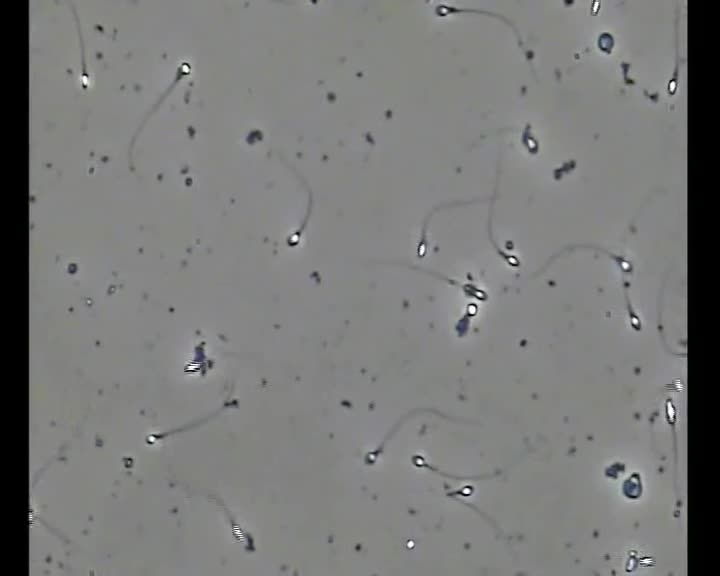spermhead: (521, 123, 538, 154), (621, 473, 641, 499), (463, 282, 487, 300), (596, 31, 614, 54), (620, 60, 635, 86), (604, 461, 624, 478), (664, 398, 677, 424), (666, 65, 677, 95), (433, 3, 456, 17), (455, 314, 469, 336), (624, 551, 637, 573), (185, 354, 205, 368), (616, 256, 632, 273), (243, 531, 255, 551), (177, 60, 191, 77), (504, 253, 519, 268), (229, 512, 240, 532), (629, 312, 641, 330), (287, 231, 301, 246), (365, 449, 379, 464), (145, 433, 161, 446), (457, 484, 473, 497), (194, 339, 207, 355), (412, 454, 426, 468), (465, 302, 478, 317), (636, 553, 649, 566), (671, 371, 683, 385), (416, 240, 425, 258), (79, 72, 89, 88), (122, 456, 133, 470), (223, 398, 239, 407), (503, 239, 515, 251), (203, 356, 214, 369), (592, 0, 600, 13), (406, 538, 415, 549), (86, 297, 94, 308)
